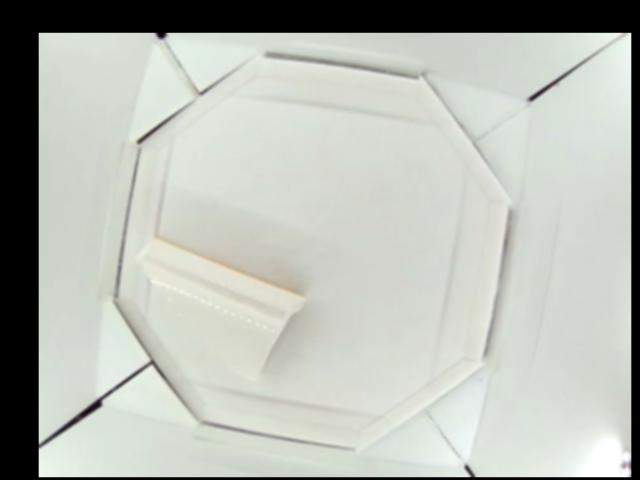China: (134, 239, 303, 378)
